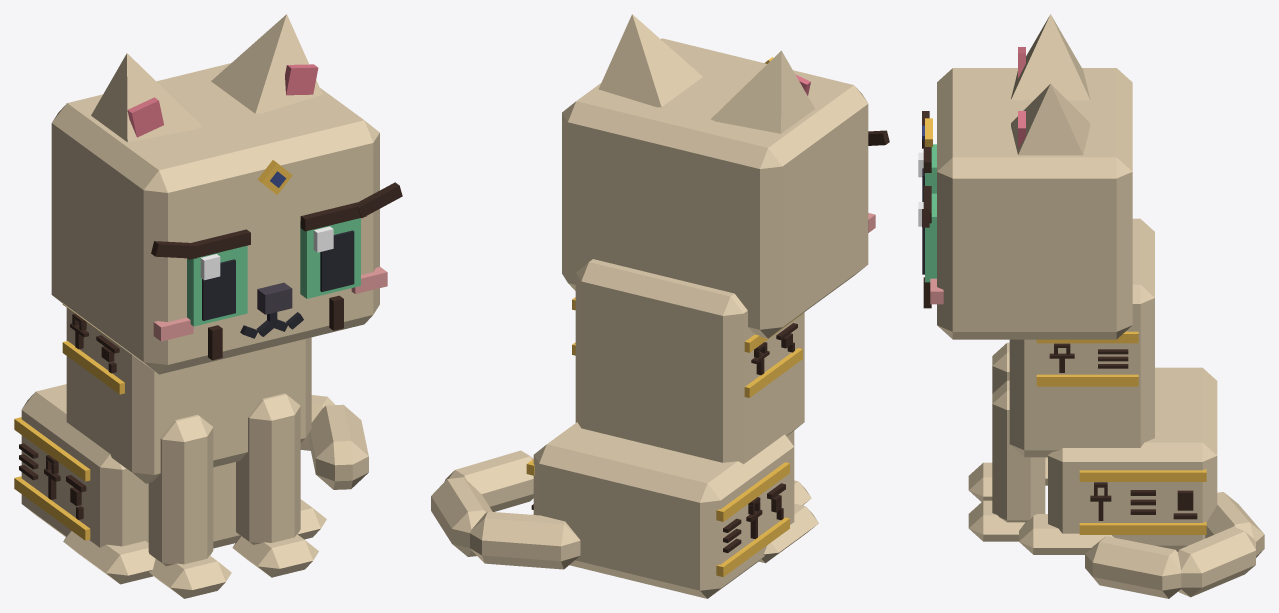
File: CatCafe_Cat_Glyph_Sit.fbx
The picture shows the model from 3 angles, left to right: view 1: azimuth 30°, elevation 25°; view 2: azimuth 150°, elevation 25°; view 3: azimuth 270°, elevation 25°; orthographic projection. The views are drawn at different scales.
Visible parts, largest first — view 1: CatCafe_Cat_Glyph_Sit_Head, CatCafe_Cat_Glyph_Sit_Body, CatCafe_Cat_Glyph_Sit_LegF2, CatCafe_Cat_Glyph_Sit_LegF1, CatCafe_Cat_Glyph_Sit_EarL, CatCafe_Cat_Glyph_Sit_EarR, CatCafe_Cat_Glyph_Sit_Prop, CatCafe_Cat_Glyph_Sit_Tail, CatCafe_Cat_Glyph_Sit_Eye1, CatCafe_Cat_Glyph_Sit_Eye2; view 2: CatCafe_Cat_Glyph_Sit_Body, CatCafe_Cat_Glyph_Sit_Head, CatCafe_Cat_Glyph_Sit_Tail, CatCafe_Cat_Glyph_Sit_EarL, CatCafe_Cat_Glyph_Sit_EarR; view 3: CatCafe_Cat_Glyph_Sit_Head, CatCafe_Cat_Glyph_Sit_Body, CatCafe_Cat_Glyph_Sit_Tail, CatCafe_Cat_Glyph_Sit_LegF1, CatCafe_Cat_Glyph_Sit_EarL, CatCafe_Cat_Glyph_Sit_EarR, CatCafe_Cat_Glyph_Sit_LegF2, CatCafe_Cat_Glyph_Sit_Prop, CatCafe_Cat_Glyph_Sit_Eye1, CatCafe_Cat_Glyph_Sit_Eye2.
Boxes of the visible parts, bbox=[...] form: CatCafe_Cat_Glyph_Sit_Head: bbox=[51, 63, 387, 374]; CatCafe_Cat_Glyph_Sit_Body: bbox=[14, 304, 326, 584]; CatCafe_Cat_Glyph_Sit_LegF2: bbox=[148, 414, 231, 598]; CatCafe_Cat_Glyph_Sit_LegF1: bbox=[232, 393, 318, 577]; CatCafe_Cat_Glyph_Sit_EarL: bbox=[211, 14, 322, 113]; CatCafe_Cat_Glyph_Sit_EarR: bbox=[91, 53, 202, 142]; CatCafe_Cat_Glyph_Sit_Prop: bbox=[151, 160, 402, 360]; CatCafe_Cat_Glyph_Sit_Tail: bbox=[300, 395, 368, 489]; CatCafe_Cat_Glyph_Sit_Eye1: bbox=[300, 218, 360, 298]; CatCafe_Cat_Glyph_Sit_Eye2: bbox=[187, 245, 247, 326]; CatCafe_Cat_Glyph_Sit_Body: bbox=[526, 259, 818, 598]; CatCafe_Cat_Glyph_Sit_Head: bbox=[562, 38, 875, 338]; CatCafe_Cat_Glyph_Sit_Tail: bbox=[431, 450, 580, 569]; CatCafe_Cat_Glyph_Sit_EarL: bbox=[598, 14, 702, 107]; CatCafe_Cat_Glyph_Sit_EarR: bbox=[711, 50, 814, 133]; CatCafe_Cat_Glyph_Sit_Head: bbox=[930, 68, 1132, 339]; CatCafe_Cat_Glyph_Sit_Body: bbox=[1009, 218, 1217, 554]; CatCafe_Cat_Glyph_Sit_Tail: bbox=[1085, 492, 1264, 598]; CatCafe_Cat_Glyph_Sit_LegF1: bbox=[968, 380, 1045, 541]; CatCafe_Cat_Glyph_Sit_EarL: bbox=[1011, 83, 1090, 155]; CatCafe_Cat_Glyph_Sit_EarR: bbox=[1011, 14, 1090, 100]; CatCafe_Cat_Glyph_Sit_LegF2: bbox=[968, 342, 1009, 501]; CatCafe_Cat_Glyph_Sit_Prop: bbox=[922, 111, 932, 308]; CatCafe_Cat_Glyph_Sit_Eye1: bbox=[918, 193, 936, 282]; CatCafe_Cat_Glyph_Sit_Eye2: bbox=[918, 144, 936, 201].
Bounding box in the file's own units: 1.26 × 1.85 × 1.24.
Materials: 1 (1 with a texture image).
